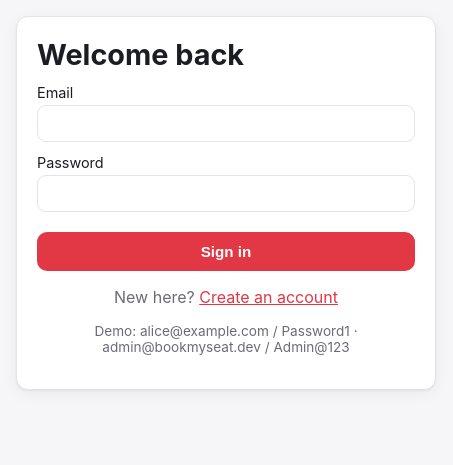
it: AuthPage (UI validation + error handling) › shows the server error message when login fails
The image size is (453, 465).
Type "a@b.co" into the field labelled "Email".
click(226, 124); type("a@b.co")  # box [37, 105, 415, 142]
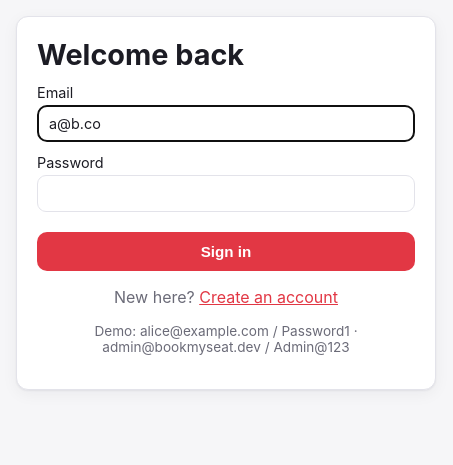
Type "whatever1" into the password field labelled "Password".
click(226, 194); type("whatever1")  # box [37, 175, 415, 212]
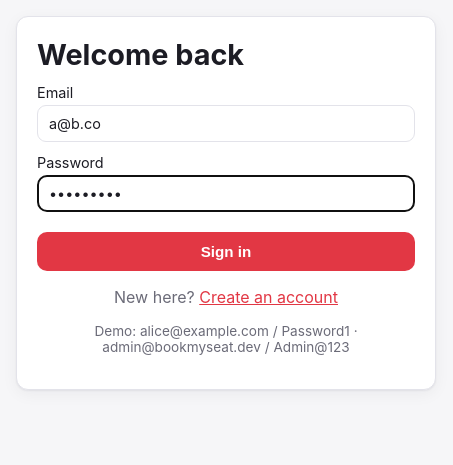
Click the button "Sign in".
click(226, 252)  # box [37, 232, 415, 271]
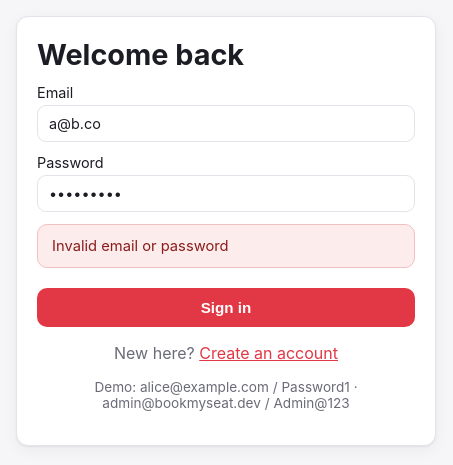
Expected: the message reads "Invalid email or password", [52, 237, 229, 255]
